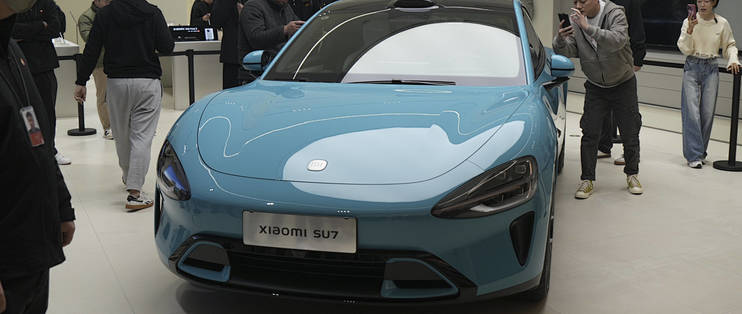su7: (158, 0, 575, 314)
